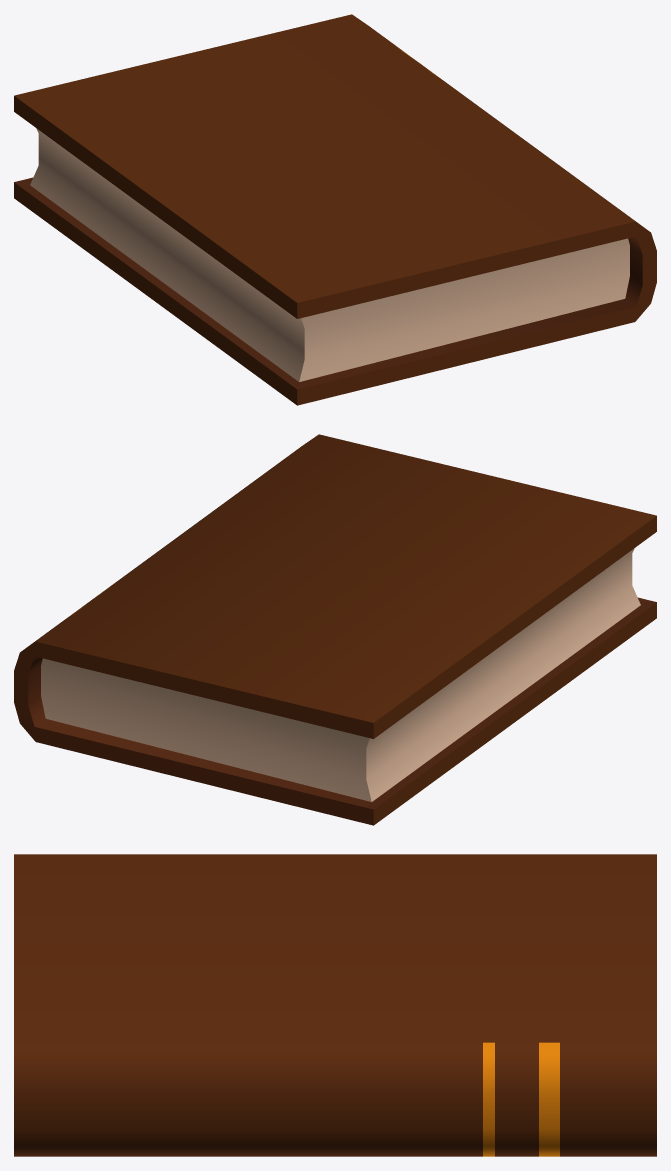
The model's file is BookClosed2.fbx.
The picture shows the model from 3 angles, top to bottom: view 1: azimuth 30°, elevation 25°; view 2: azimuth 150°, elevation 25°; view 3: azimuth 270°, elevation 25°; orthographic projection. The views are drawn at different scales.
Visible parts, largest first — view 1: BookClosed2; view 2: BookClosed2; view 3: BookClosed2.
Boxes of the visible parts, left/top/right/bottom form: BookClosed2: left=14, top=14, right=656, bottom=405; BookClosed2: left=14, top=434, right=656, bottom=825; BookClosed2: left=14, top=854, right=656, bottom=1156.
Bounding box in the file's own units: 22 × 6 × 30.01.
